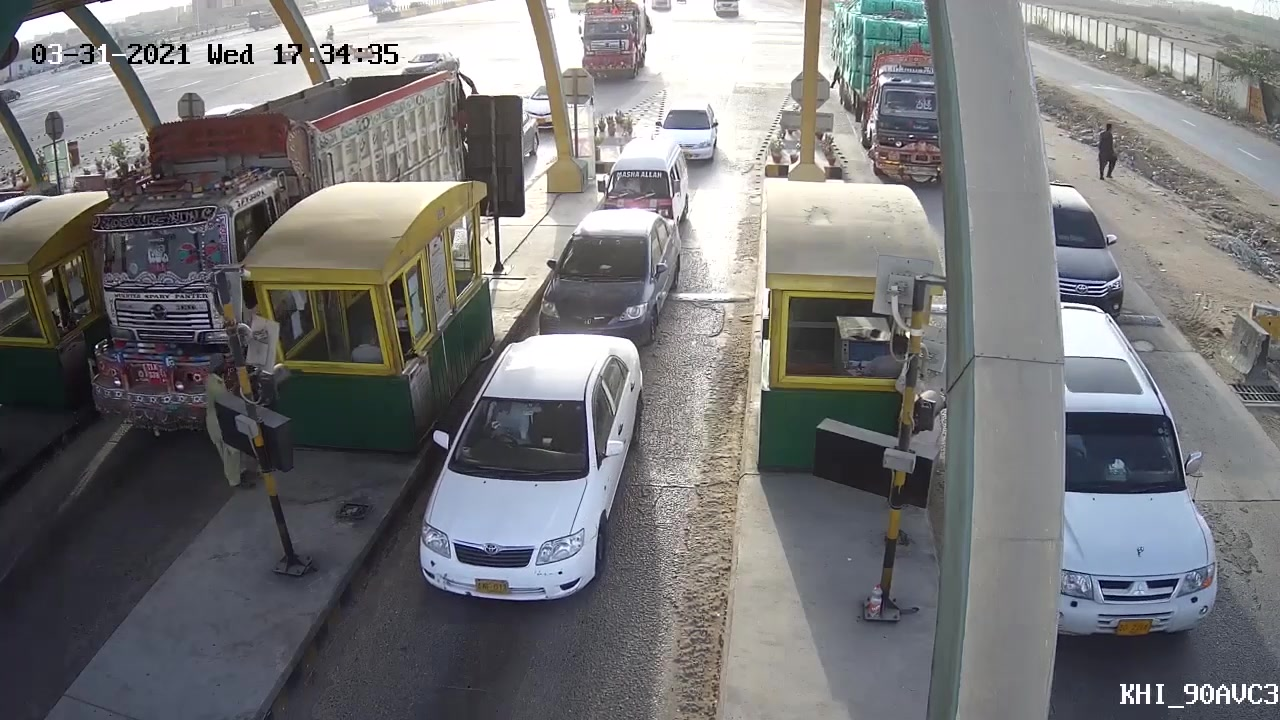F1: (386, 331, 647, 599)
